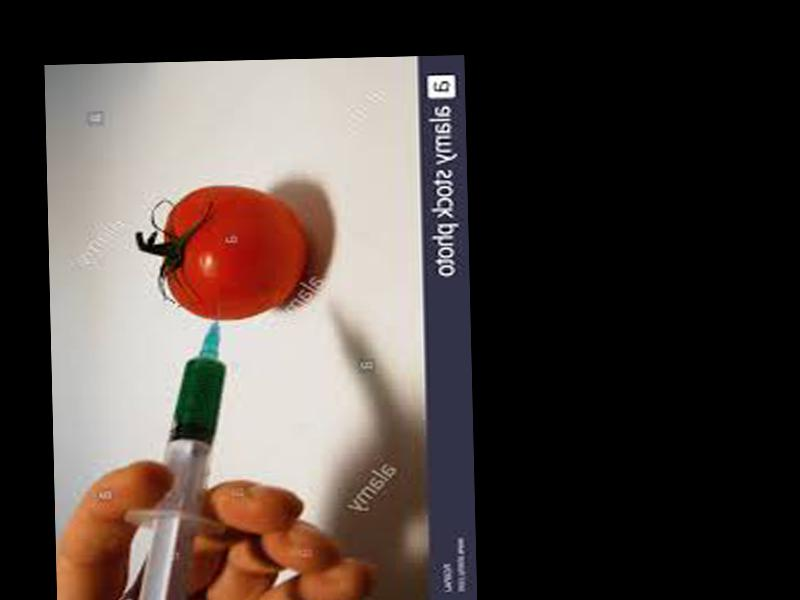Tomato: (163, 185, 308, 321)
